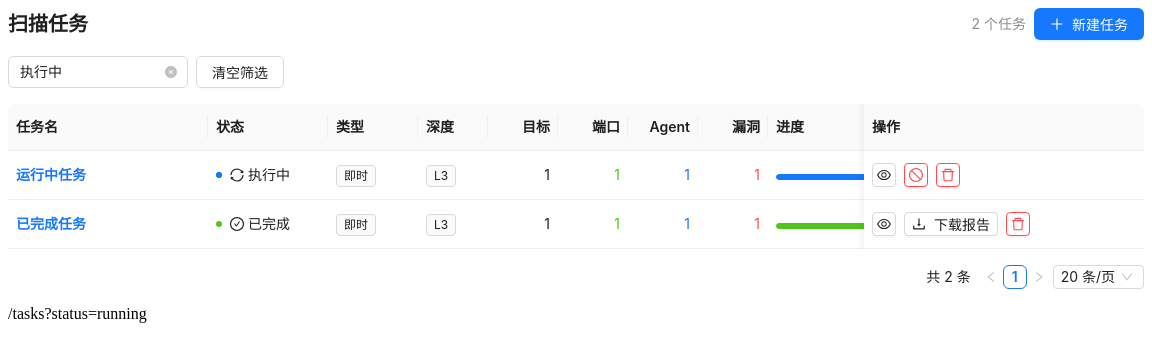
Scenario: Tasks page › uses URL filters and exposes report download
expect the text "运行中任务" is shown: met, box [16,166,86,183]
expect the text "已完成任务" is shown: met, box [16,215,86,232]
Click the button "下载报告".
click(951, 224)  # box [904,212,998,236]
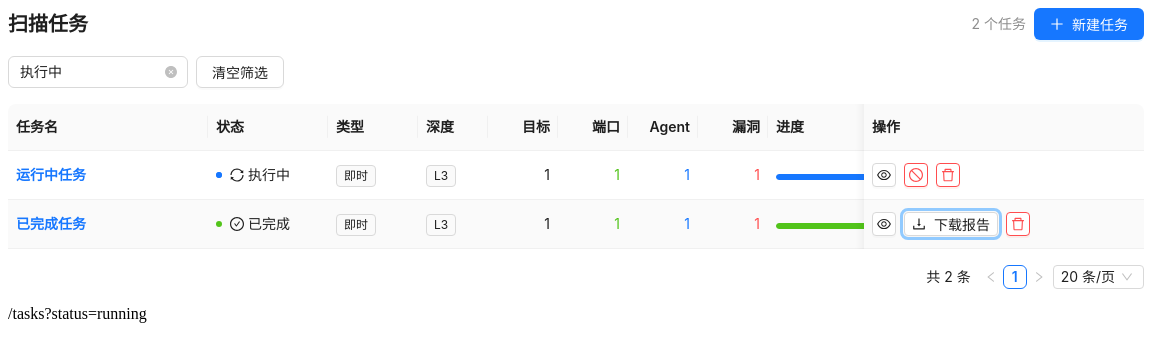
Click the button "清空筛选".
click(240, 72)  # box [196,56,284,88]
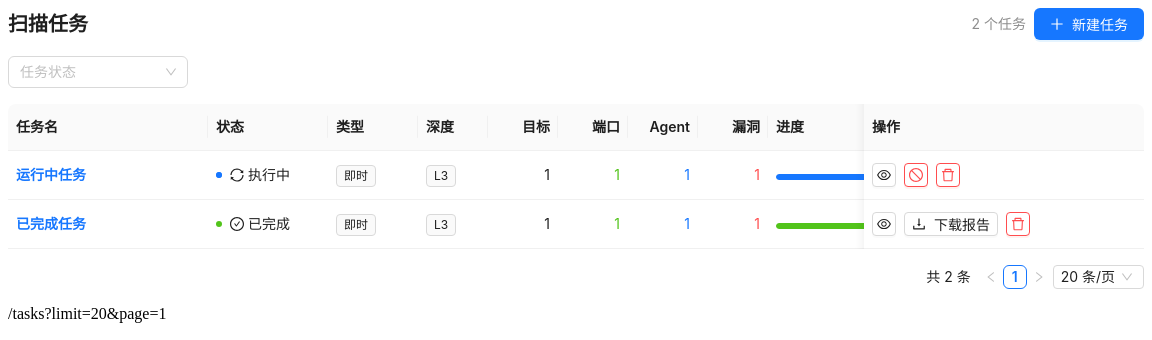
expect the text with test id "location-display" no longer shows "status=": met, box [8,305,166,322]
